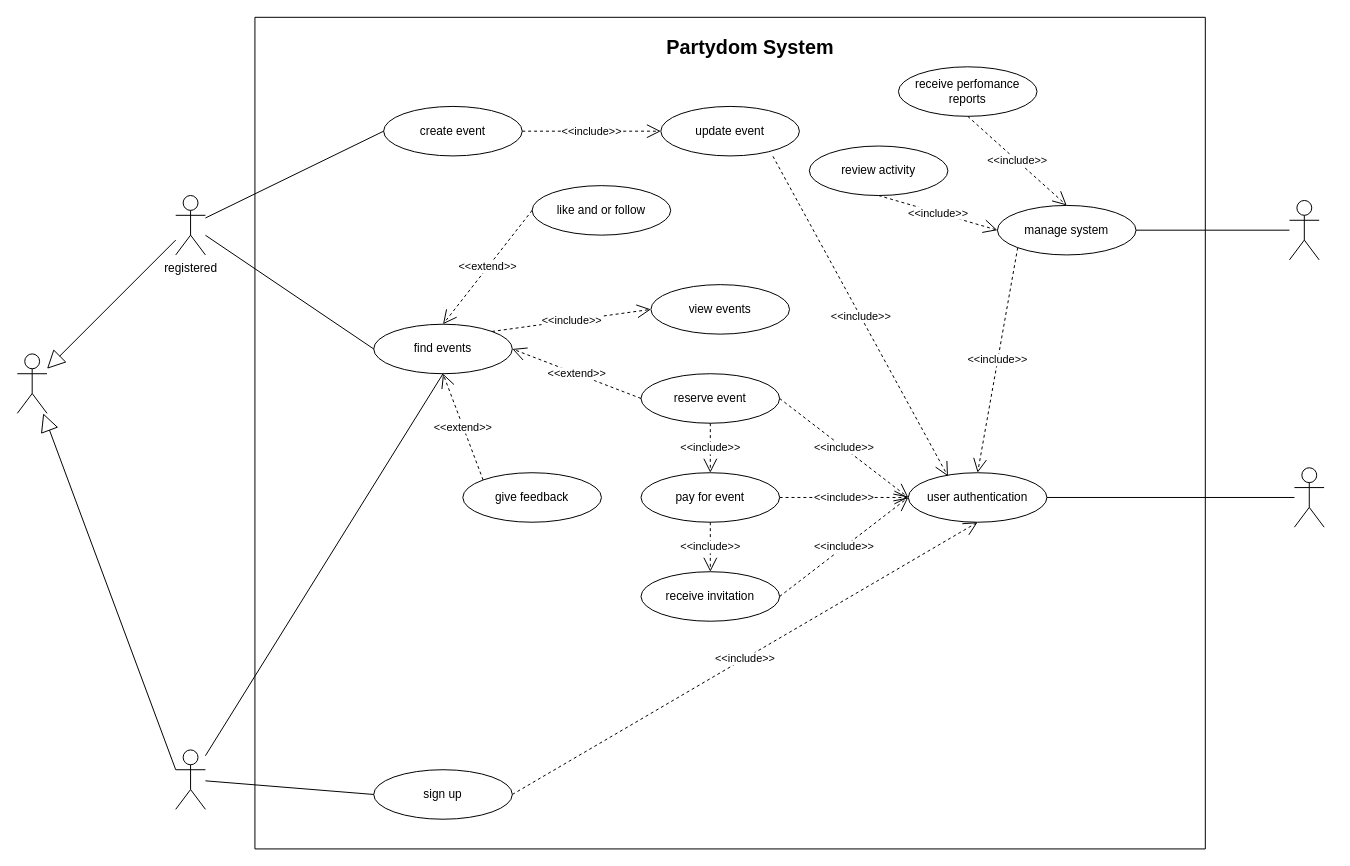
The diagram is 1350 pixels wide and 866 high, and some of its shapes have lost their labels. The centre of each missing label's shape, as x and y in pixels:
admin: point 1303,229
database: point 1308,497
user: point 31,383
visiting: point 190,779
